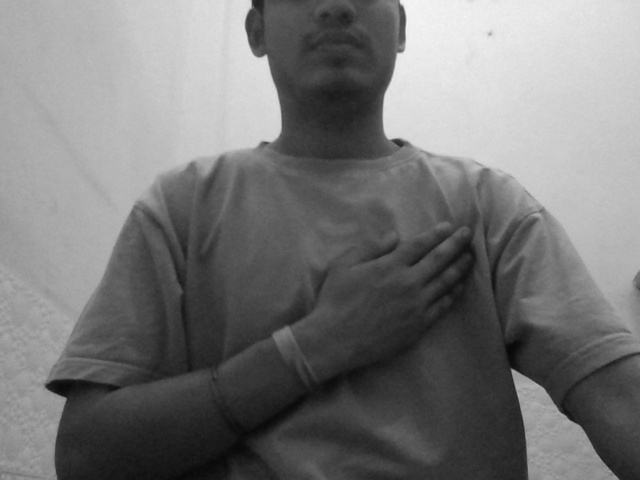Sorry: (293, 213, 532, 363)
